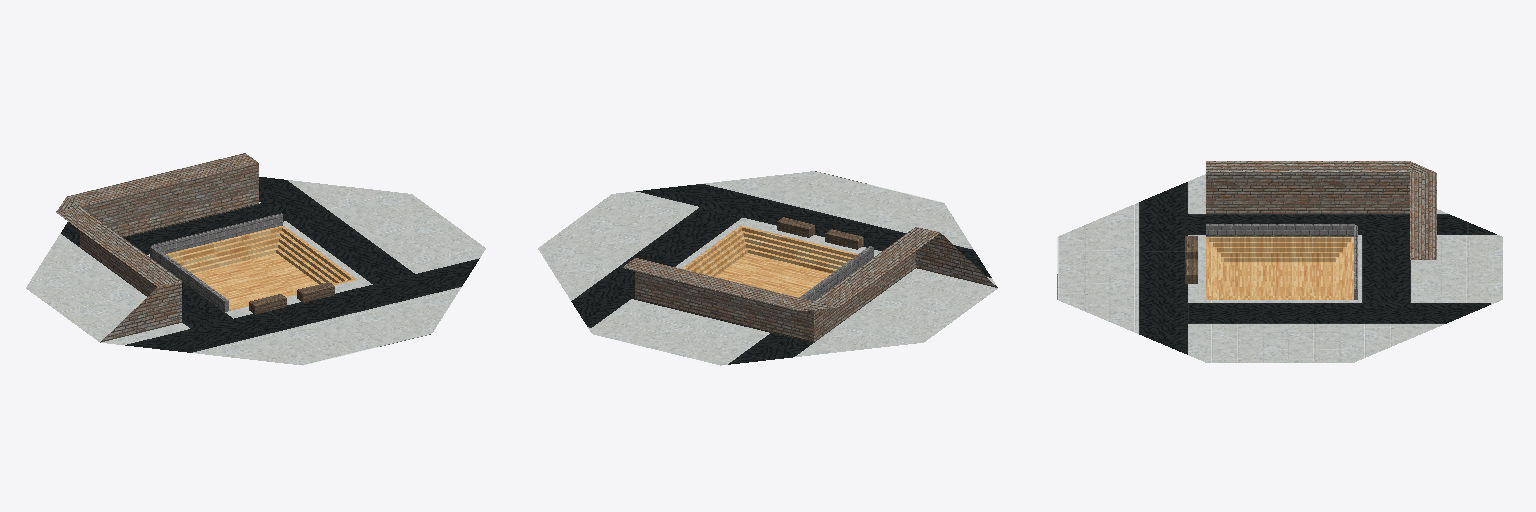
3 renders of one model, left to right at view 1: azimuth 30°, elevation 25°; view 2: azimuth 150°, elevation 25°; view 3: azimuth 270°, elevation 25°, orthographic.
Parts seen in each view (by area): view 1: Plane; view 2: Plane; view 3: Plane.
Boxes of the visible parts, box(x1,y1,x2,y2) form: Plane: box(26, 153, 485, 365); Plane: box(538, 171, 997, 365); Plane: box(1057, 161, 1502, 362).
Size of the model in its own units: 6 by 0.8653 by 6.
1 materials, 1 textured.